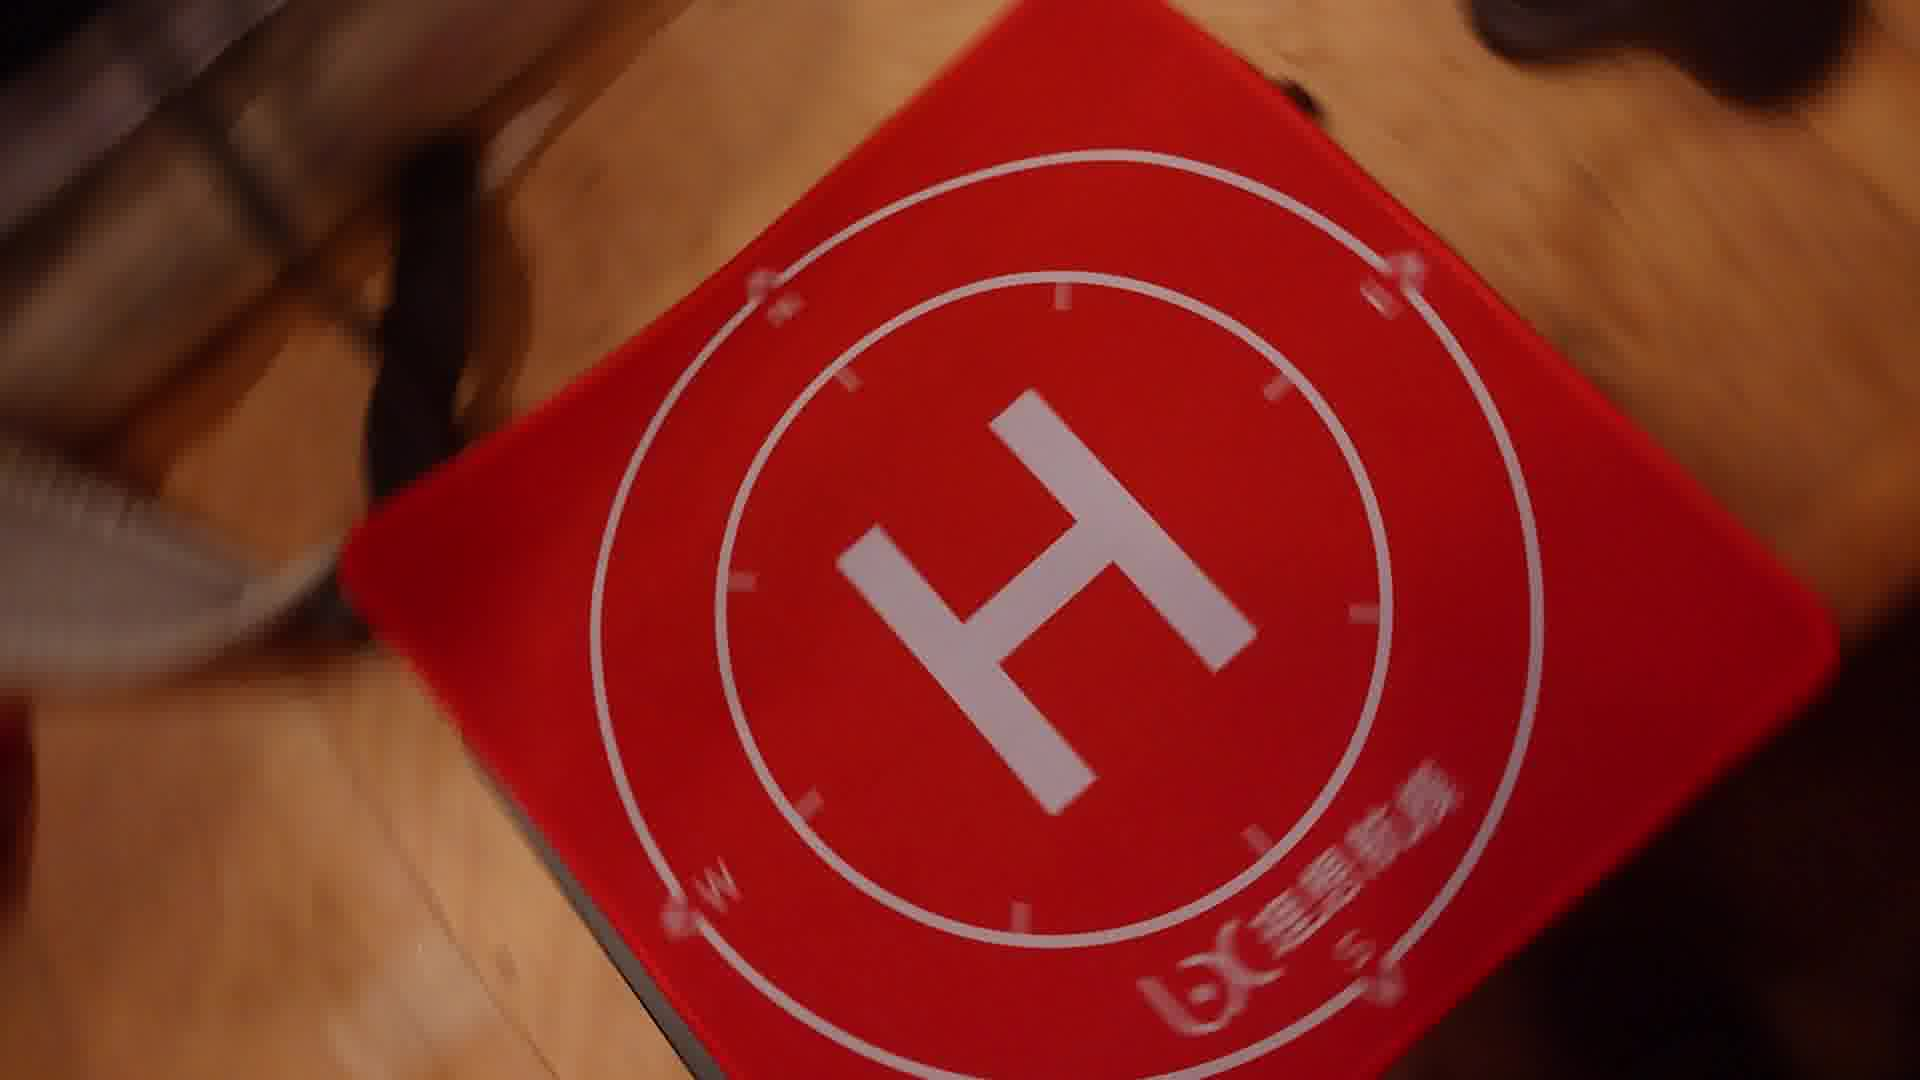H: (836, 385, 1258, 819)
